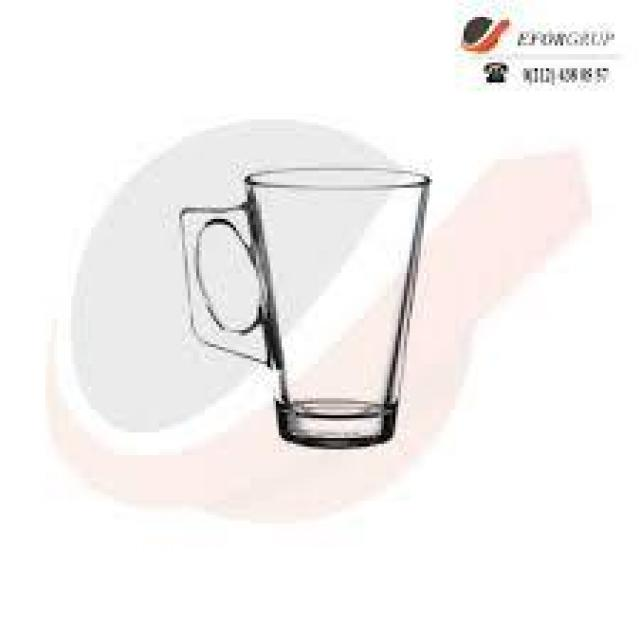non-organic waste: (178, 164, 434, 448)
